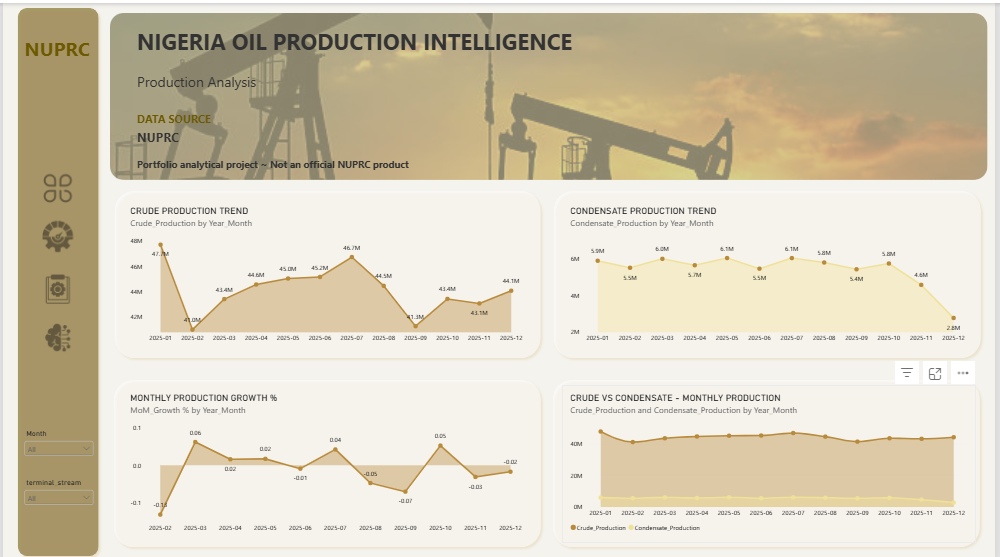

Layout of this report page (visuals, bound fields, positions):
{"tool":"powerbi","page":{"name":"Production Analysis","canvas":[1920,1080],"ordinal":2},"visuals":[{"type":"shape","box":[1055,720,845,342.5],"z":0},{"type":"shape","box":[205,720,845,342.5],"z":1000},{"type":"shape","box":[1057.5,355,845,342.5],"z":2000},{"type":"shape","box":[207.5,355,842.5,342.5],"z":3000},{"type":"shape","box":[206.2,19.1,1698.7,323.1],"z":4000},{"type":"lineChart","title":"CRUDE PRODUCTION TREND","fields":{"Category":["DimDate.Year_Month"],"Y":["FactProduction.Crude_Production"]},"box":[230,377.5,795,300],"z":5000},{"type":"lineChart","title":"CONDENSATE PRODUCTION TREND","fields":{"Category":["DimDate.Year_Month"],"Y":["FactProduction.Condensate_Production"]},"box":[1082.5,377.5,800,300],"z":6000},{"type":"lineChart","title":"CRUDE VS CONDENSATE - MONTHLY PRODUCTION","fields":{"Category":["DimDate.Year_Month"],"Y":["FactProduction.Crude_Production","FactProduction.Condensate_Production"]},"box":[1082.5,740,800,305],"z":7000},{"type":"lineChart","title":"MONTHLY PRODUCTION GROWTH %","fields":{"Category":["DimDate.Year_Month"],"Y":["FactProduction.MoM_Growth %"]},"box":[230,740,795,305],"z":8000},{"type":"image","box":[207.5,20,1697.5,322.5],"z":9000},{"type":"textbox","box":[260,300,540,55.3],"z":10000},{"type":"textbox","box":[259.4,244.5,108.4,55.3],"z":11000},{"type":"textbox","box":[259.4,208.3,157.3,36.1],"z":12000},{"type":"textbox","box":[259.4,133.9,496.4,58],"z":13000},{"type":"textbox","box":[259.4,44.6,892,88.2],"z":14000},{"type":"shape","box":[20,0,175,1080],"z":15000},{"type":"image","box":[75.9,516.1,60.7,73.7],"z":16000},{"type":"image","box":[75.9,407.7,60.7,86.7],"z":17000},{"type":"image","box":[75.9,327.5,60.7,62.9],"z":18000},{"type":"textbox","box":[36.9,62.9,136.6,71.6],"z":19000},{"type":"slicer","fields":{"Values":["DimDate.Month"]},"box":[36.9,824.1,143.1,78.1],"z":20000},{"type":"slicer","fields":{"Values":["FactProduction.terminal_stream"]},"box":[36.9,919.5,143.1,80.2],"z":21000},{"type":"image","box":[75.9,607.2,60.7,80.2],"z":22000}]}

Visuals, with their boxes in screenshot pixels (x1, y1, x2, y2), scaled from the page's 1920x1080 canvas onto the 1000x557 screenshot:
shape: bbox=(549, 371, 990, 548)
shape: bbox=(107, 371, 547, 548)
shape: bbox=(551, 183, 991, 360)
shape: bbox=(108, 183, 547, 360)
shape: bbox=(107, 10, 992, 176)
"CRUDE PRODUCTION TREND" lineChart: bbox=(120, 195, 534, 349)
"CONDENSATE PRODUCTION TREND" lineChart: bbox=(564, 195, 980, 349)
"CRUDE VS CONDENSATE - MONTHLY PRODUCTION" lineChart: bbox=(564, 382, 980, 539)
"MONTHLY PRODUCTION GROWTH %" lineChart: bbox=(120, 382, 534, 539)
image: bbox=(108, 10, 992, 177)
textbox: bbox=(135, 155, 417, 183)
textbox: bbox=(135, 126, 192, 155)
textbox: bbox=(135, 107, 217, 126)
textbox: bbox=(135, 69, 394, 99)
textbox: bbox=(135, 23, 600, 68)
shape: bbox=(10, 0, 102, 556)
image: bbox=(40, 266, 71, 304)
image: bbox=(40, 210, 71, 255)
image: bbox=(40, 169, 71, 201)
textbox: bbox=(19, 32, 90, 69)
slicer - DimDate.Month: bbox=(19, 425, 94, 465)
slicer - FactProduction.terminal_stream: bbox=(19, 474, 94, 516)
image: bbox=(40, 313, 71, 355)
